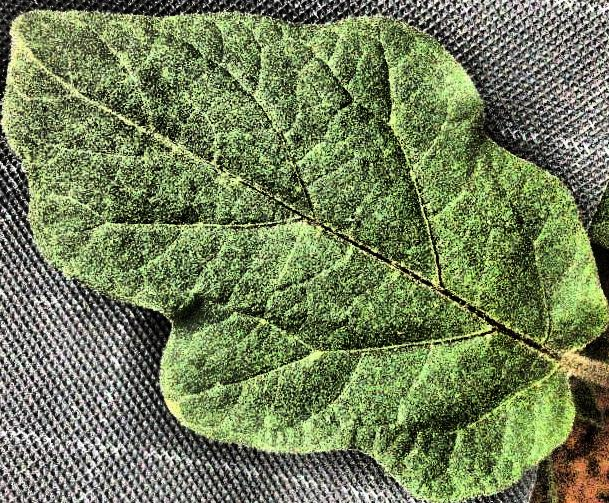HEALTHY: (1, 0, 609, 503)
